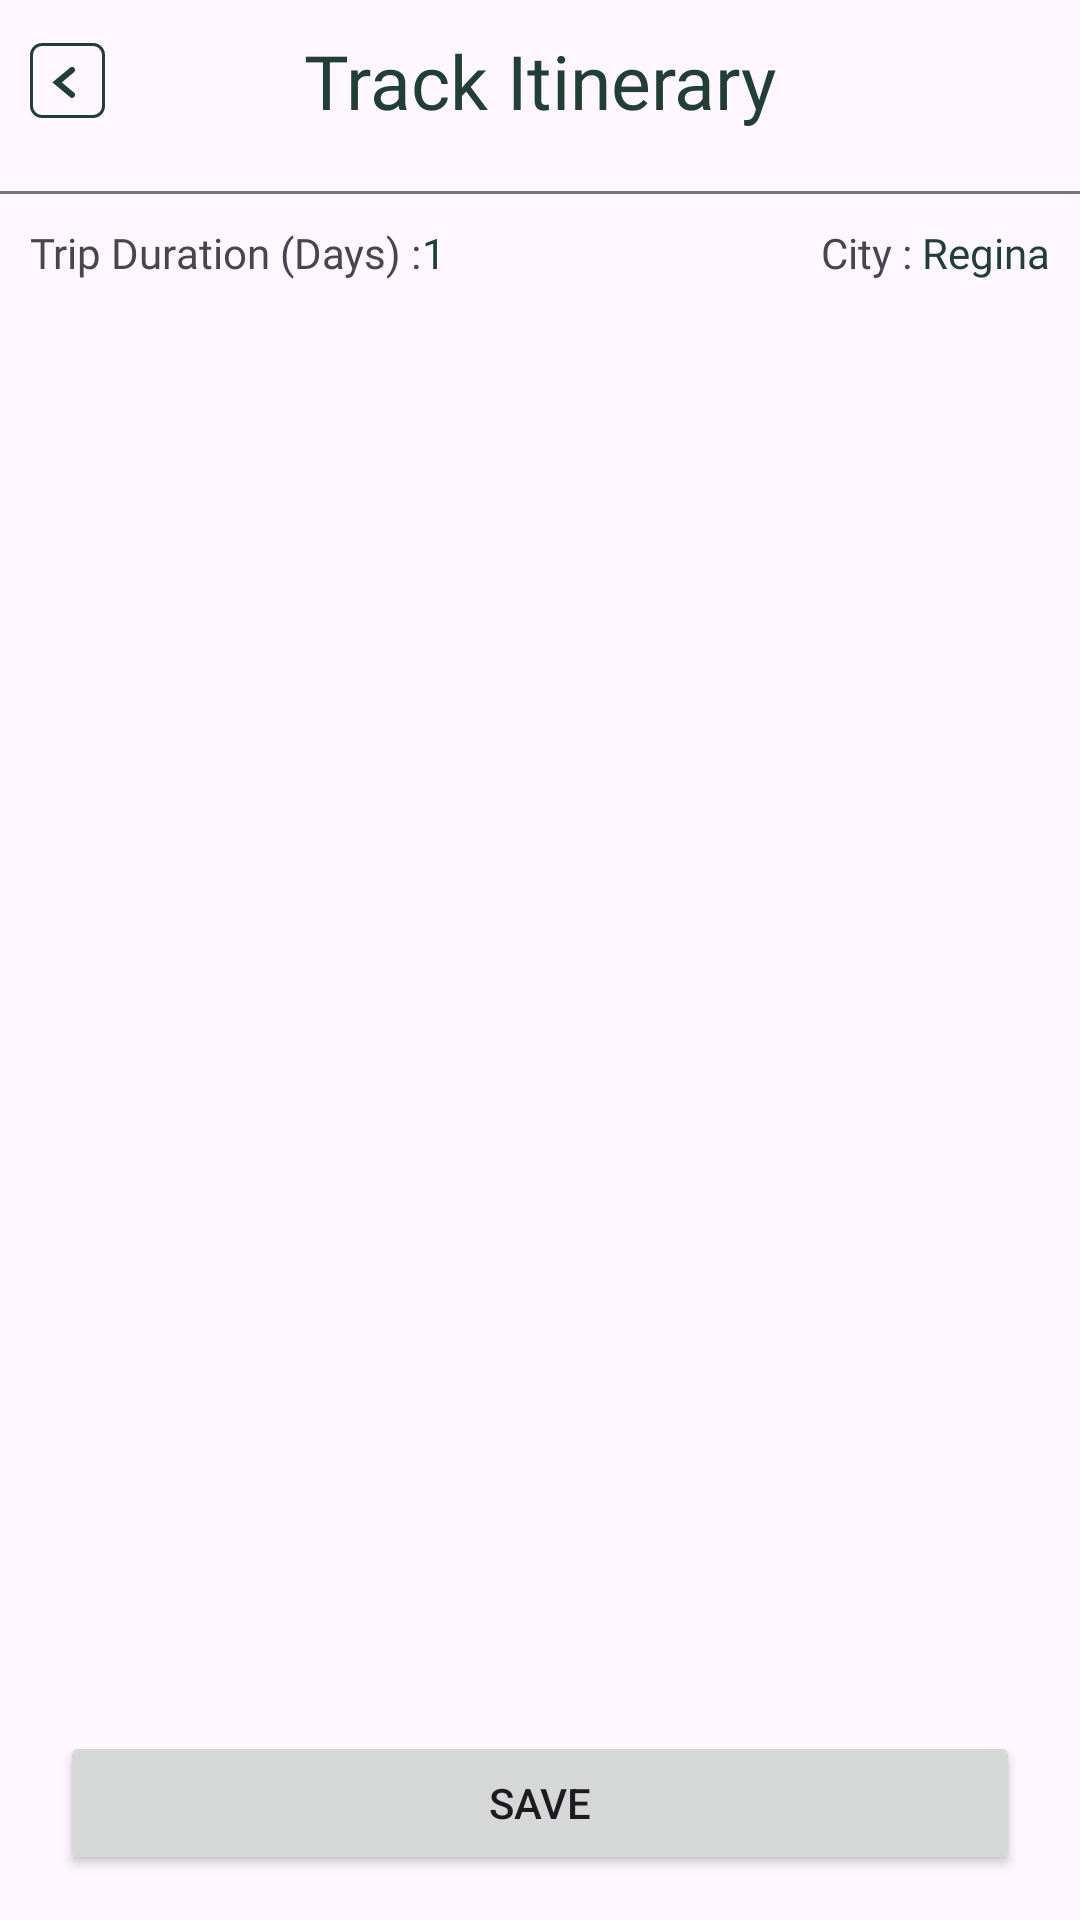

Icon bounding boxes for this 1080 x 1920 phone screenshot, format BBox(x1, y1, x2, y2):
back: BBox(30, 43, 105, 118)
